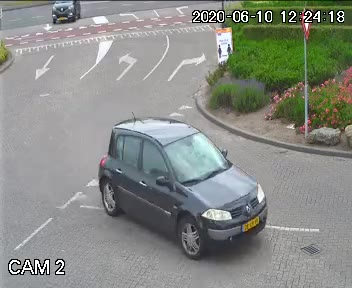car: (85, 112, 327, 273), (46, 1, 81, 29)
